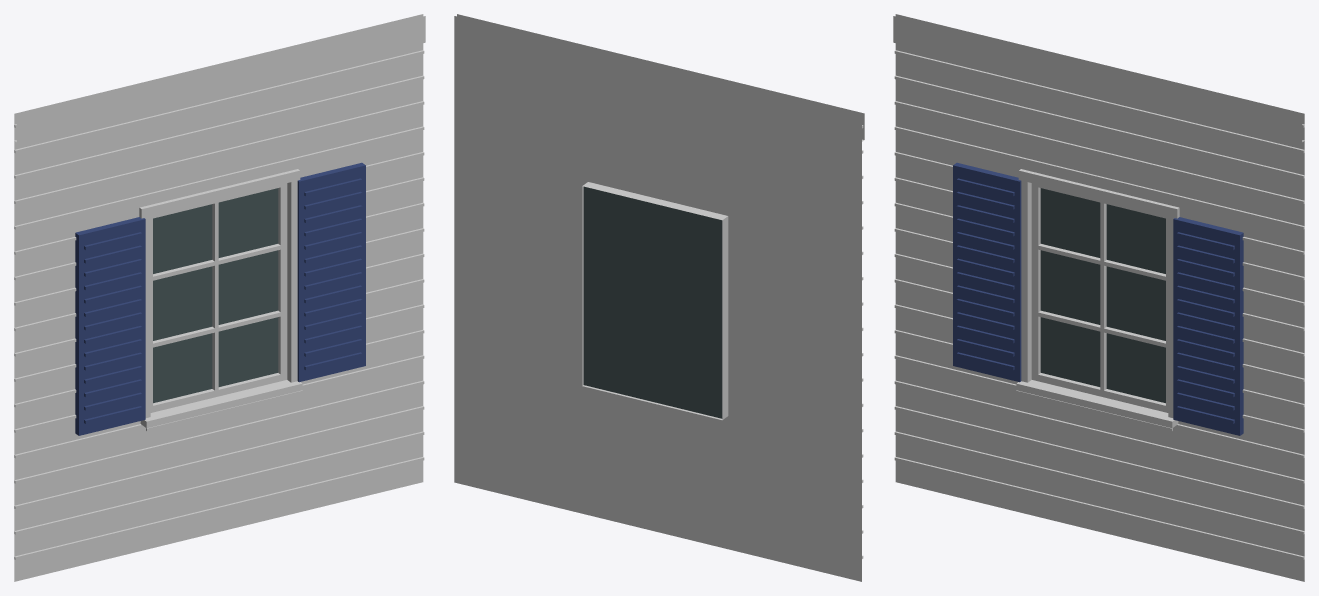
Rendered from mid-w1_close.fbx.
3 renders of one model, left to right at view 1: azimuth 30°, elevation 25°; view 2: azimuth 150°, elevation 25°; view 3: azimuth 330°, elevation 25°, orthographic.
Parts seen in each view (by area): view 1: a2000/600/mid-w1_close; view 2: a2000/600/mid-w1_close; view 3: a2000/600/mid-w1_close.
Part boxes in pixels (x1=…): a2000/600/mid-w1_close: x1=14, y1=14, x2=425, y2=581; a2000/600/mid-w1_close: x1=454, y1=14, x2=864, y2=581; a2000/600/mid-w1_close: x1=893, y1=14, x2=1304, y2=581.
Size of the model in its own units: 3.2 by 3.5 by 0.165.
